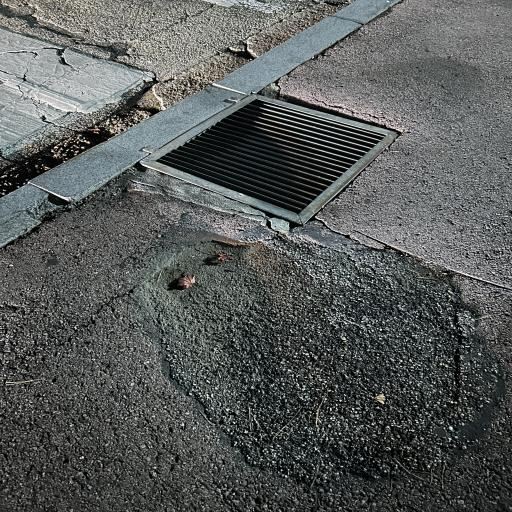drain: (142, 95, 397, 224)
